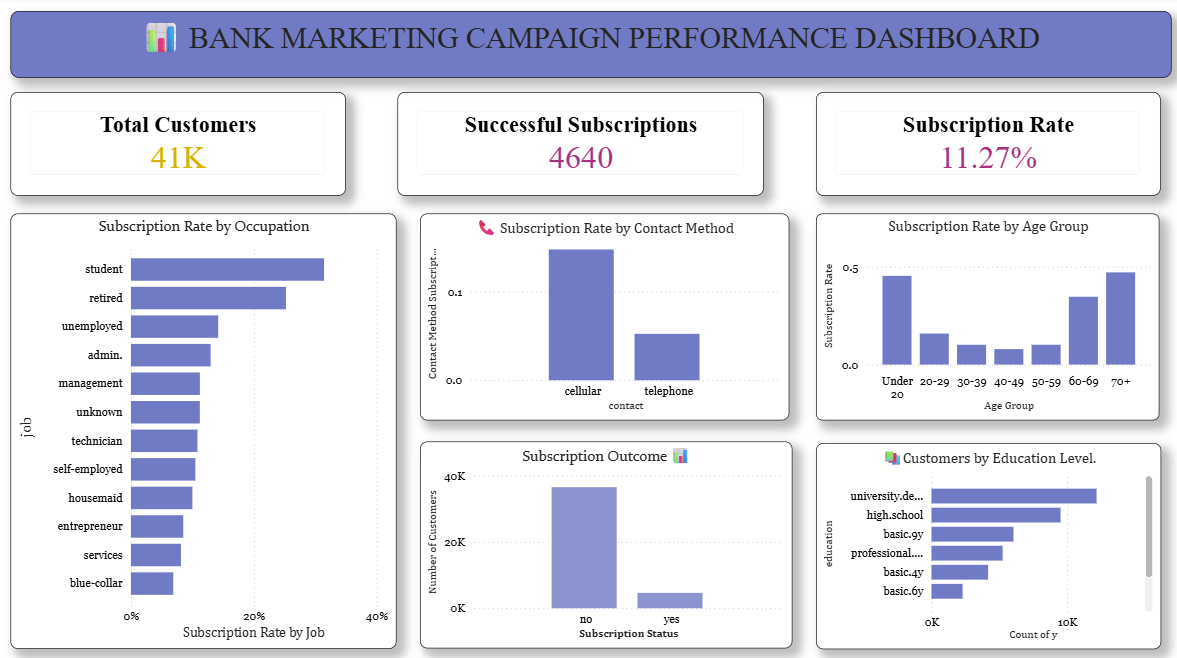

The page's visual inventory and layout, read from the dashboard file:
{"tool":"powerbi","page":{"name":"Page 1","canvas":[1280,720],"ordinal":0},"visuals":[{"type":"cardVisual","fields":{"Data":["Bank Marketing Dataset.Total Customers"]},"box":[11.7,103.3,361.7,111.7],"z":0},{"type":"cardVisual","fields":{"Data":["Bank Marketing Dataset.Successful Subscriptions"]},"box":[428.3,103.3,395,111.7],"z":1},{"type":"clusteredColumnChart","title":"Subscription Outcome 📊","fields":{"Category":["Bank Marketing Dataset.y"],"Y":["CountNonNull(Bank Marketing Dataset.y)"]},"box":[453.3,481.7,401.7,223.3],"z":2},{"type":"cardVisual","fields":{"Data":["Bank Marketing Dataset.Subscription Rate"]},"box":[881.7,103.3,371.7,111.7],"z":3},{"type":"shape","box":[11.7,16.7,1253,71.7],"z":5},{"type":"textbox","box":[38.3,16.7,1196.7,71.7],"z":6},{"type":"clusteredBarChart","title":"Subscription Rate by Occupation","fields":{"Category":["Bank Marketing Dataset.job"],"Y":["Bank Marketing Dataset.Subscription Rate by Job"]},"box":[11.7,235,416.7,470],"z":7},{"type":"clusteredColumnChart","title":"📞 Subscription Rate by Contact Method","fields":{"Y":["Bank Marketing Dataset.Contact Method Subscription Rate"],"Category":["Bank Marketing Dataset.contact"]},"box":[453.3,235,398.3,223.3],"z":8},{"type":"clusteredColumnChart","fields":{"Y":["Bank Marketing Dataset.Subscription Rate"],"Category":["Bank Marketing Dataset.Age Group"]},"box":[880.9,234.8,370.8,223.5],"z":9},{"type":"clusteredBarChart","title":"📚Customers by Education Level.","fields":{"Category":["Bank Marketing Dataset.education"],"Y":["CountNonNull(Bank Marketing Dataset.y)"]},"box":[881,482,372.7,222.8],"z":10}]}

Visuals, with their boxes in screenshot pixels (x1, y1, x2, y2), scaled from the page's 1280x720 canvas onto the 1177x658 screenshot:
cardVisual - Bank Marketing Dataset.Total Customers: detection(11, 94, 343, 196)
cardVisual - Bank Marketing Dataset.Successful Subscriptions: detection(394, 94, 757, 196)
"Subscription Outcome 📊" clusteredColumnChart: detection(417, 440, 786, 644)
cardVisual - Bank Marketing Dataset.Subscription Rate: detection(811, 94, 1153, 196)
shape: detection(11, 15, 1163, 81)
textbox: detection(35, 15, 1136, 81)
"Subscription Rate by Occupation" clusteredBarChart: detection(11, 215, 394, 644)
"📞 Subscription Rate by Contact Method" clusteredColumnChart: detection(417, 215, 783, 419)
clusteredColumnChart - Bank Marketing Dataset.Subscription Rate x Bank Marketing Dataset.Age Group: detection(810, 215, 1151, 419)
"📚Customers by Education Level." clusteredBarChart: detection(810, 440, 1153, 644)
